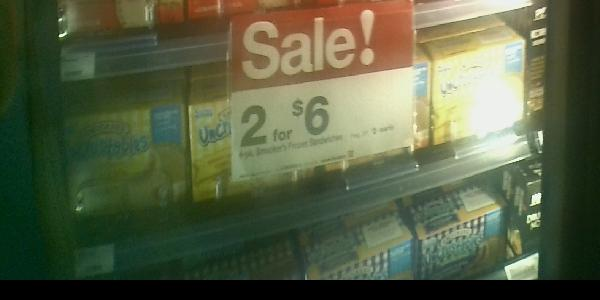icecream: (59, 96, 187, 226), (299, 54, 429, 174), (189, 66, 294, 208), (430, 38, 529, 144)
